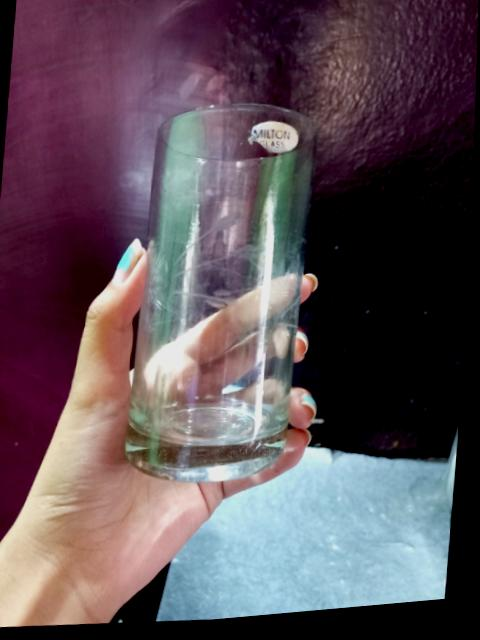Cup: (126, 104, 315, 482)
